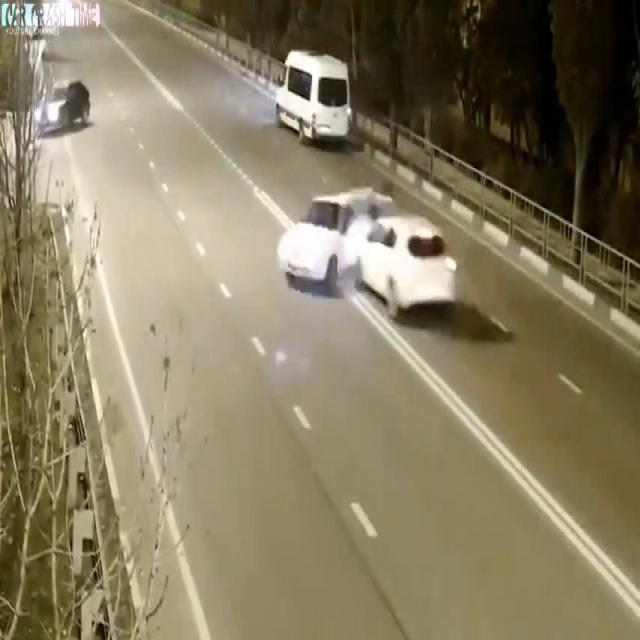Accident: (279, 148, 502, 420)
